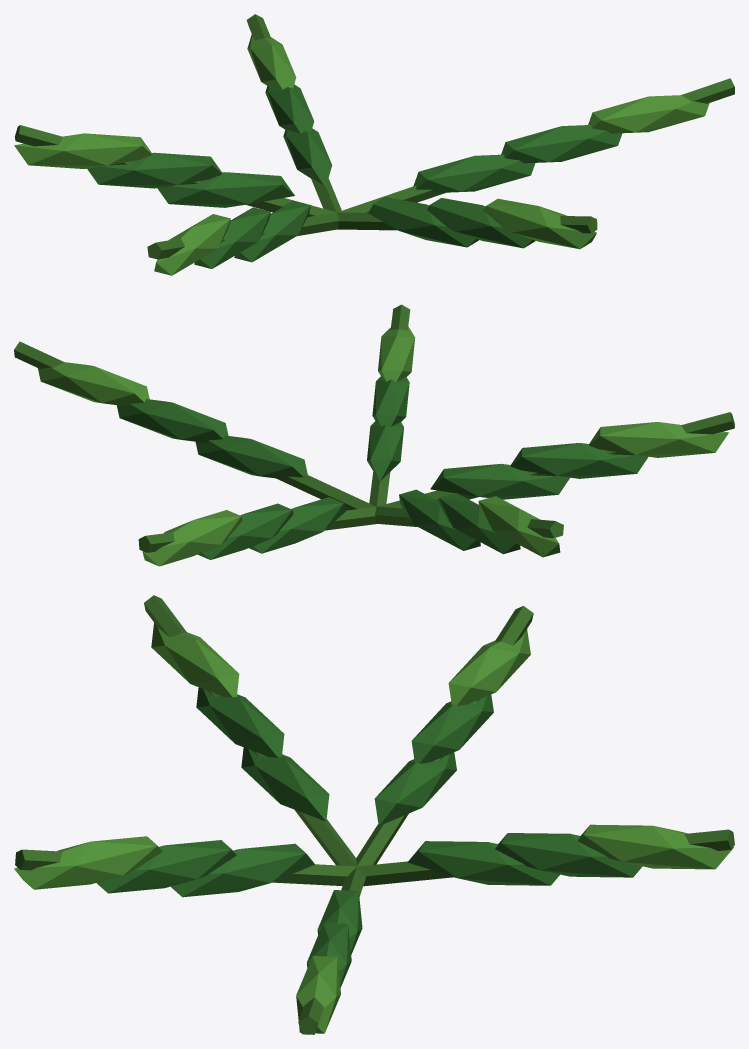
The model's file is fern_b.glb.
The picture shows the model from 3 angles, top to bottom: view 1: azimuth 30°, elevation 25°; view 2: azimuth 150°, elevation 25°; view 3: azimuth 270°, elevation 25°; orthographic projection. The views are drawn at different scales.
Parts seen in each view (by area): view 1: Leaf_3_3.001, Leaf_3_1.001, Leaf_3_2.001, Leaf_1_3.001, Leaf_1_1.001, Leaf_1_2.001, Leaf_5_3.001, Leaf_5_1.001, Leaf_5_2.001, Leaf_4_3.001, Leaf_4_1.001, Leaf_4_2.001 (+8 smaller); view 2: Leaf_4_3.001, Leaf_4_2.001, Leaf_4_1.001, Leaf_1_3.001, Leaf_1_1.001, Leaf_1_2.001, Leaf_2_3.001, Leaf_3_3.001, Leaf_2_1.001, Leaf_2_2.001, Leaf_3_1.001, Leaf_3_2.001 (+8 smaller); view 3: Leaf_2_3.001, Leaf_5_3.001, Leaf_2_1.001, Leaf_2_2.001, Leaf_5_1.001, Leaf_5_2.001, Leaf_4_3.001, Leaf_4_1.001, Leaf_4_2.001, Leaf_3_3.001, Leaf_3_1.001, Leaf_3_2.001 (+8 smaller).
Boxes of the visible parts, x1,y1,x2,y2 form: Leaf_3_3.001: (14, 133, 151, 168); Leaf_3_1.001: (157, 172, 294, 207); Leaf_3_2.001: (87, 152, 221, 188); Leaf_1_3.001: (588, 95, 709, 133); Leaf_1_1.001: (413, 154, 535, 192); Leaf_1_2.001: (501, 125, 622, 163); Leaf_5_3.001: (483, 198, 596, 249); Leaf_5_1.001: (368, 197, 478, 247); Leaf_5_2.001: (427, 198, 535, 248); Leaf_4_3.001: (154, 214, 230, 275); Leaf_4_1.001: (234, 200, 310, 262); Leaf_4_2.001: (194, 207, 270, 268); Leaf_4_3.001: (589, 422, 728, 457); Leaf_4_2.001: (510, 443, 648, 478); Leaf_4_1.001: (430, 463, 569, 499); Leaf_1_3.001: (38, 362, 149, 406); Leaf_1_1.001: (195, 435, 307, 479); Leaf_1_2.001: (117, 399, 228, 442); Leaf_2_3.001: (142, 510, 242, 566); Leaf_3_3.001: (478, 496, 560, 557); Leaf_2_1.001: (249, 497, 345, 553); Leaf_2_2.001: (197, 503, 293, 559); Leaf_3_1.001: (399, 489, 480, 550); Leaf_3_2.001: (439, 493, 520, 554); Leaf_2_3.001: (577, 824, 733, 869); Leaf_5_3.001: (14, 836, 162, 889); Leaf_2_1.001: (407, 841, 559, 885); Leaf_2_2.001: (495, 833, 642, 877); Leaf_5_1.001: (171, 843, 314, 897); Leaf_5_2.001: (97, 840, 236, 893); Leaf_4_3.001: (151, 623, 239, 697); Leaf_4_1.001: (241, 747, 329, 821); Leaf_4_2.001: (196, 687, 284, 757); Leaf_3_3.001: (448, 629, 530, 705); Leaf_3_1.001: (374, 752, 456, 825); Leaf_3_2.001: (411, 694, 493, 763).
Size of the model in its own units: 2.08 by 0.3435 by 1.67.
